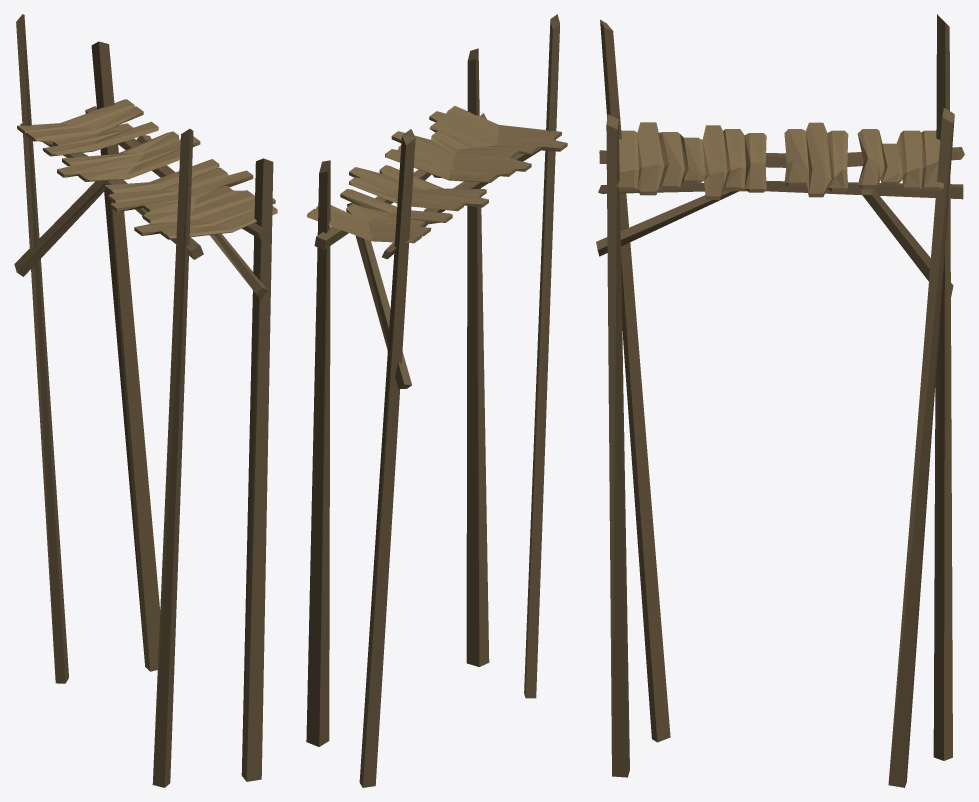
The model's file is SM_Bld_Rickety_Dock_01.glb.
3 views of the same model, side by side, from view 1: azimuth 30°, elevation 25°; view 2: azimuth 150°, elevation 25°; view 3: azimuth 270°, elevation 25° (orthographic). The views are drawn at different scales.
Visible parts, largest first — view 1: SM_Bld_Rickety_Dock_01_part00; view 2: SM_Bld_Rickety_Dock_01_part00; view 3: SM_Bld_Rickety_Dock_01_part00.
Boxes of the visible parts, bbox=[...] form: SM_Bld_Rickety_Dock_01_part00: bbox=[14, 14, 277, 787]; SM_Bld_Rickety_Dock_01_part00: bbox=[306, 14, 567, 787]; SM_Bld_Rickety_Dock_01_part00: bbox=[596, 14, 964, 787].
Bounding box in the file's own units: 1.91 × 8.67 × 4.01.
Materials: 1 (1 with a texture image).
